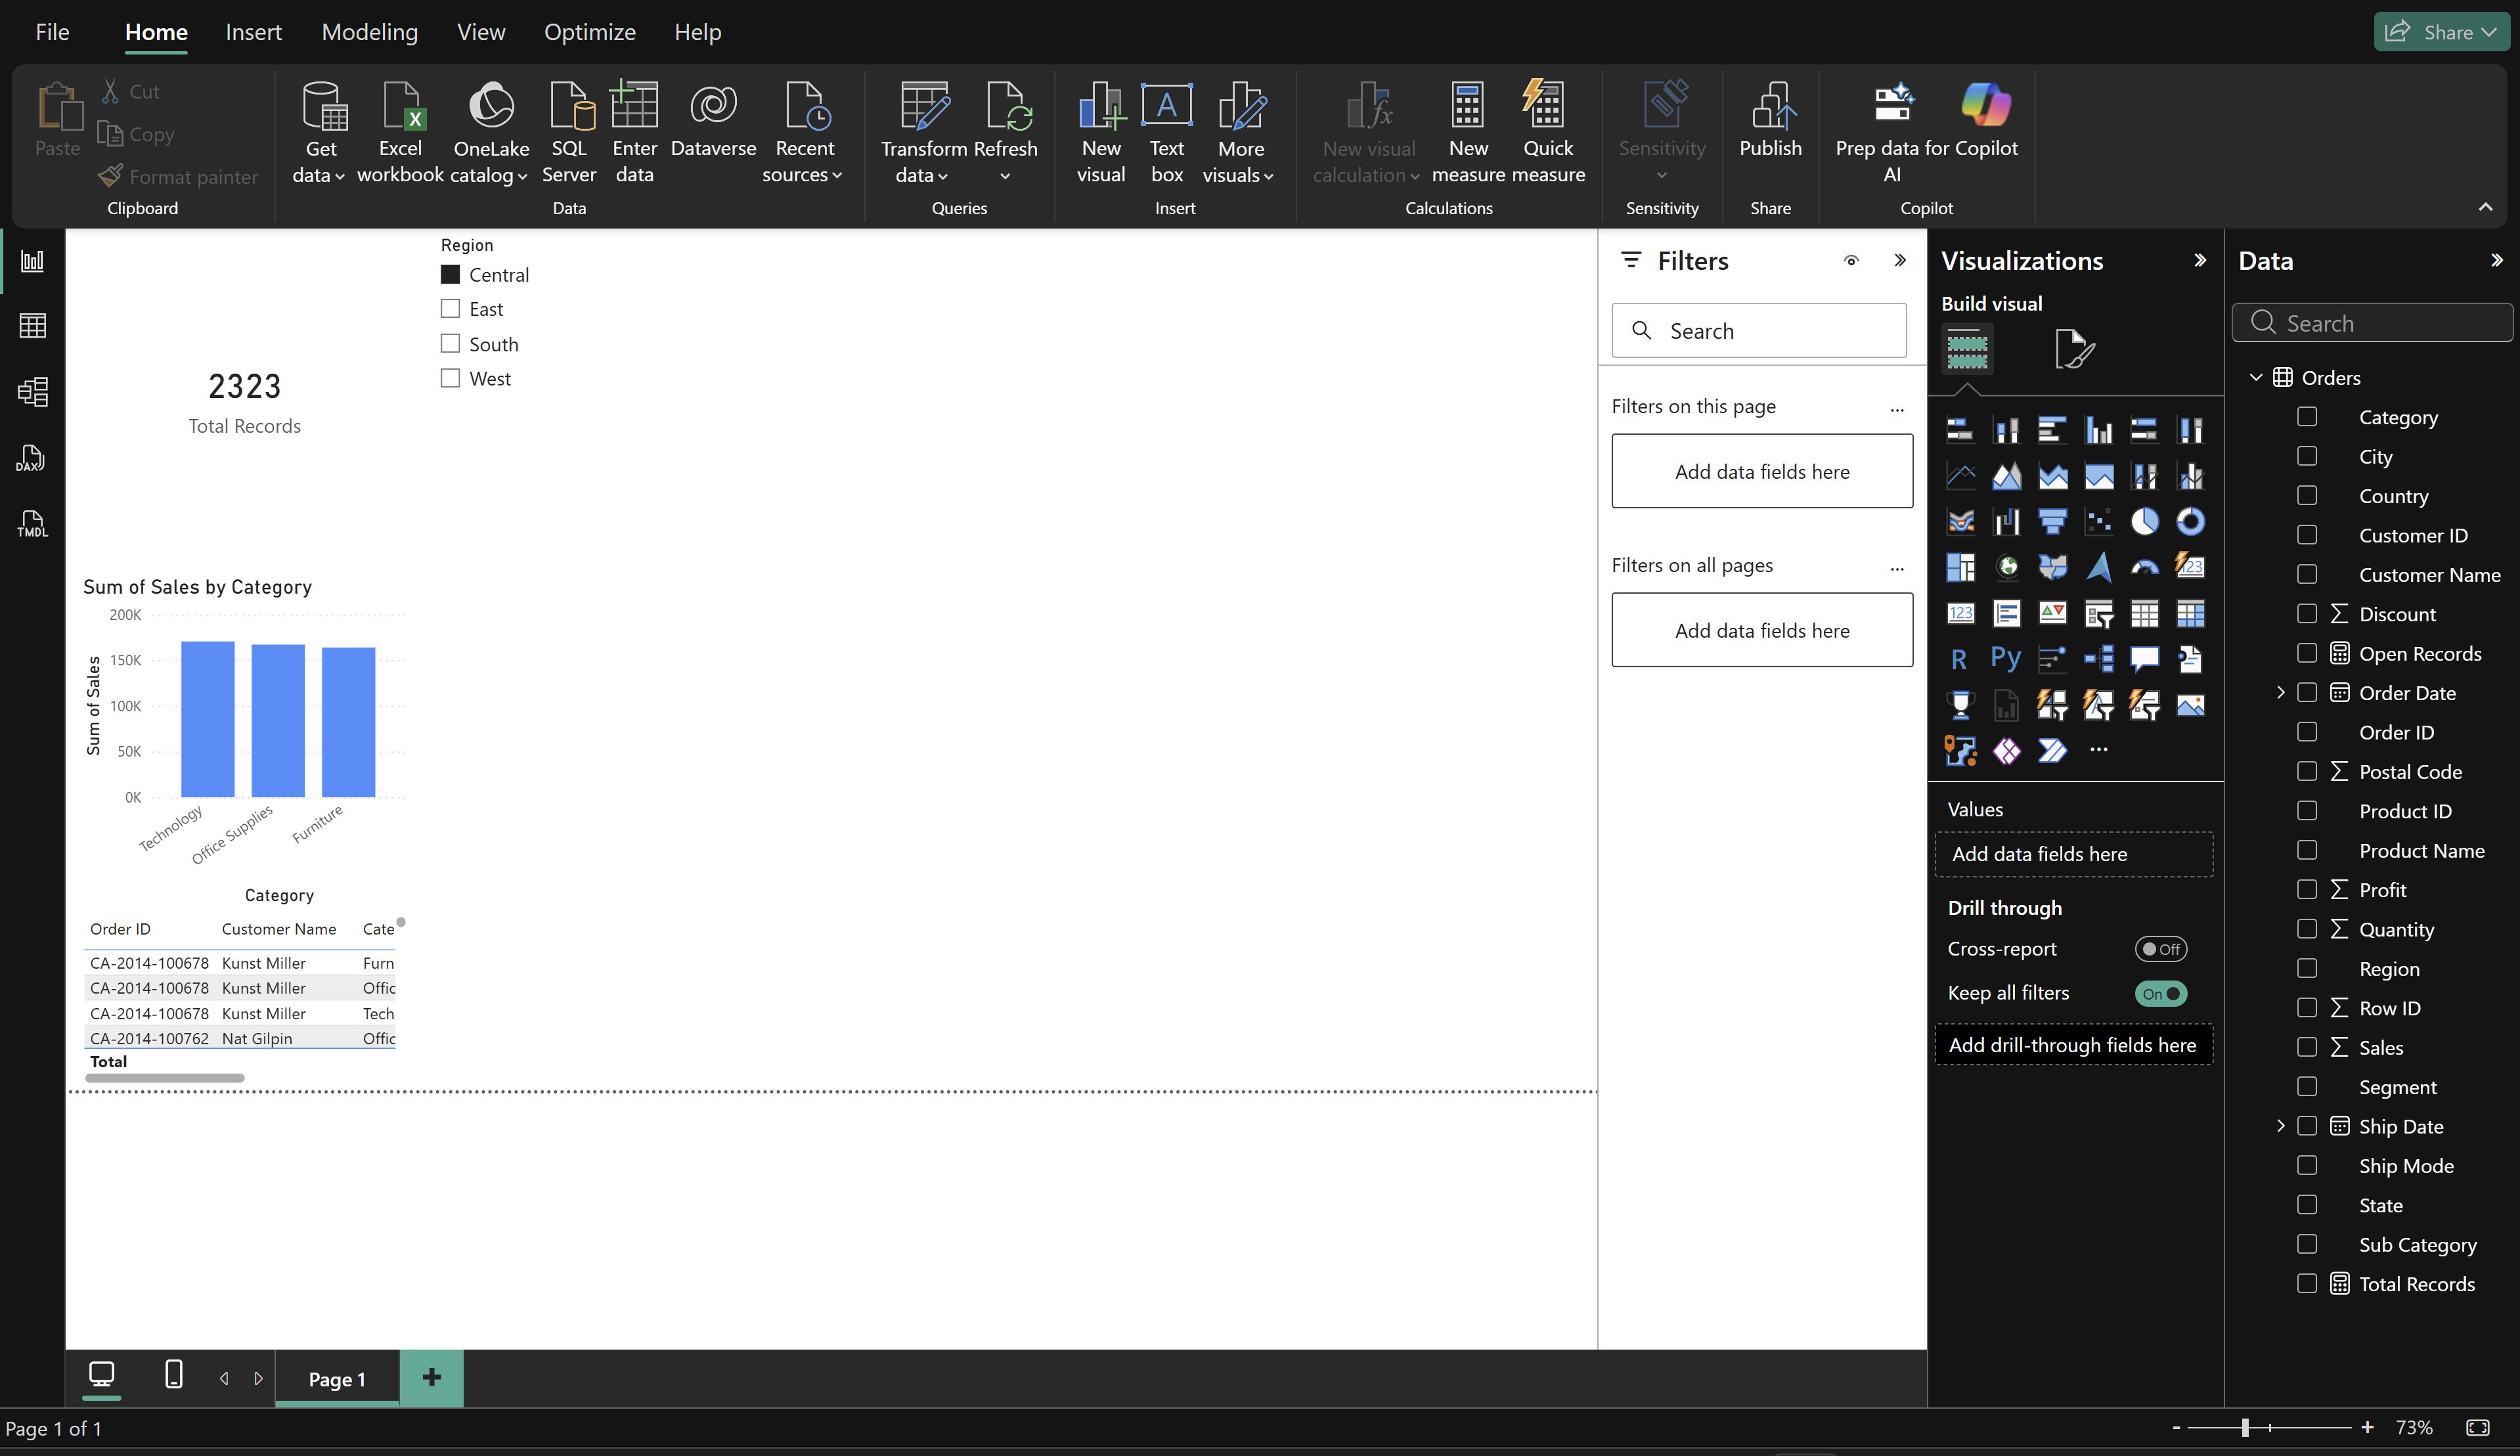

The page's visual inventory and layout, read from the dashboard file:
{"tool":"powerbi","page":{"name":"Page 1","canvas":[1280,720],"ordinal":0},"visuals":[{"type":"card","fields":{"Values":["Orders.Total Records"]},"box":[10,0,280,280],"z":0},{"type":"clusteredColumnChart","fields":{"Category":["Orders.Category"],"Y":["Sum(Orders.Sales)"]},"box":[10,290,280,280],"z":1000},{"type":"tableEx","fields":{"Values":["Orders.Order ID","Orders.Customer Name","Orders.Category","Sum(Orders.Sales)","Sum(Orders.Profit)"]},"box":[10,570,280,150],"z":1001},{"type":"slicer","fields":{"Values":["Orders.Region"]},"box":[300,0,280,280],"z":1002}]}

Visuals, with their boxes on the page's 1280x720 design canvas (x1, y1, x2, y2). These are canvas units, not pixel positions in the 2520x1456 screenshot, which may show the page scaled, cropped or inside an application window:
card - Orders.Total Records: l=10, t=0, r=290, b=280
clusteredColumnChart - Orders.Category x Sum(Orders.Sales): l=10, t=290, r=290, b=570
tableEx - Orders.Order ID x Orders.Customer Name: l=10, t=570, r=290, b=720
slicer - Orders.Region: l=300, t=0, r=580, b=280
